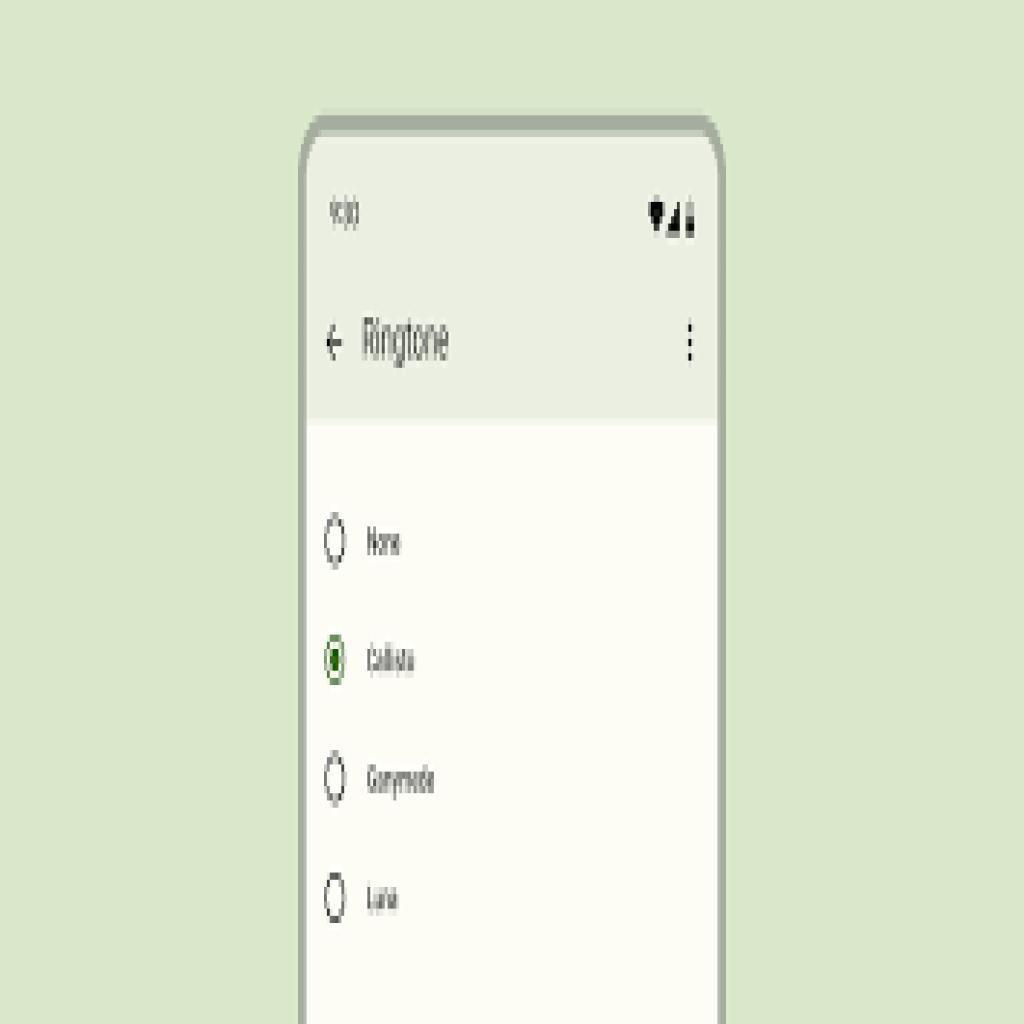icon: (322, 322, 348, 363), (681, 322, 702, 372)
label: (361, 314, 456, 372), (364, 760, 439, 804), (360, 637, 421, 682), (362, 524, 407, 562), (362, 878, 404, 916)
radio: (320, 741, 351, 828), (322, 862, 351, 944), (320, 508, 355, 573), (323, 625, 351, 692)
